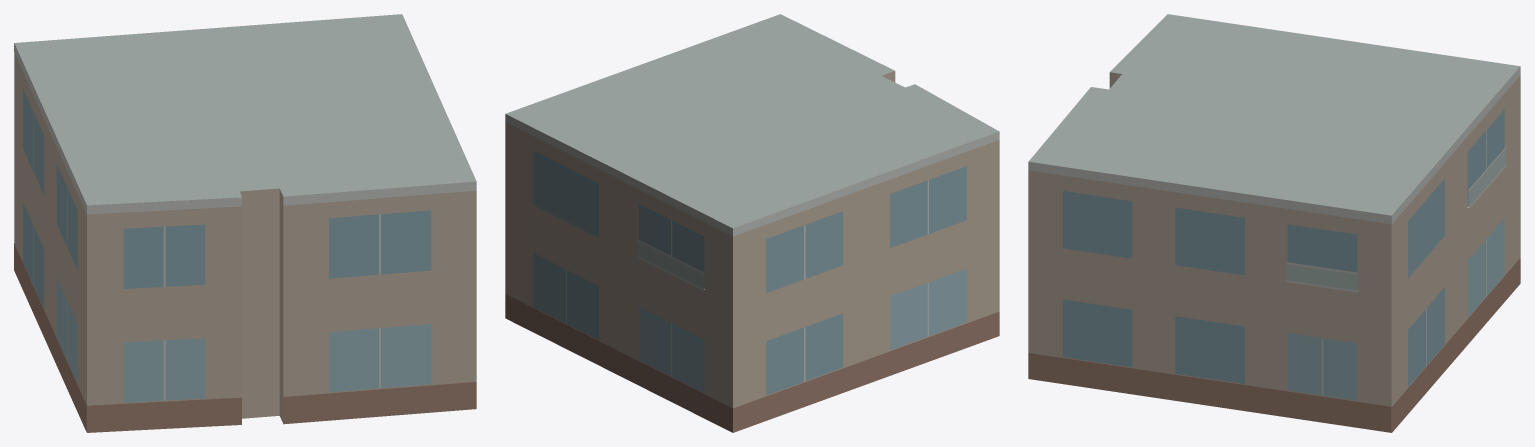
The model's file is survey-upis-32809466.glb.
3 renders of one model, left to right at view 1: azimuth 30°, elevation 25°; view 2: azimuth 150°, elevation 25°; view 3: azimuth 270°, elevation 25°, orthographic. The views are drawn at different scales.
Parts seen in each view (by area): view 1: survey-upis-32809466.tmp; view 2: survey-upis-32809466.tmp; view 3: survey-upis-32809466.tmp.
Boxes of the visible parts, x1=… form: survey-upis-32809466.tmp: x1=14, y1=14, x2=476, y2=432; survey-upis-32809466.tmp: x1=505, y1=14, x2=999, y2=432; survey-upis-32809466.tmp: x1=1028, y1=14, x2=1520, y2=432.
Bounding box in the file's own units: 12.15 × 6.1 × 12.54.
